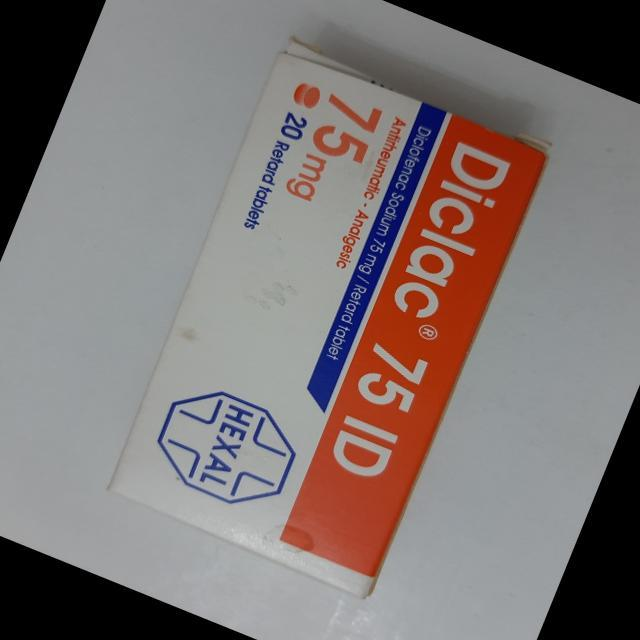Medicine Name: (383, 134, 521, 332)
